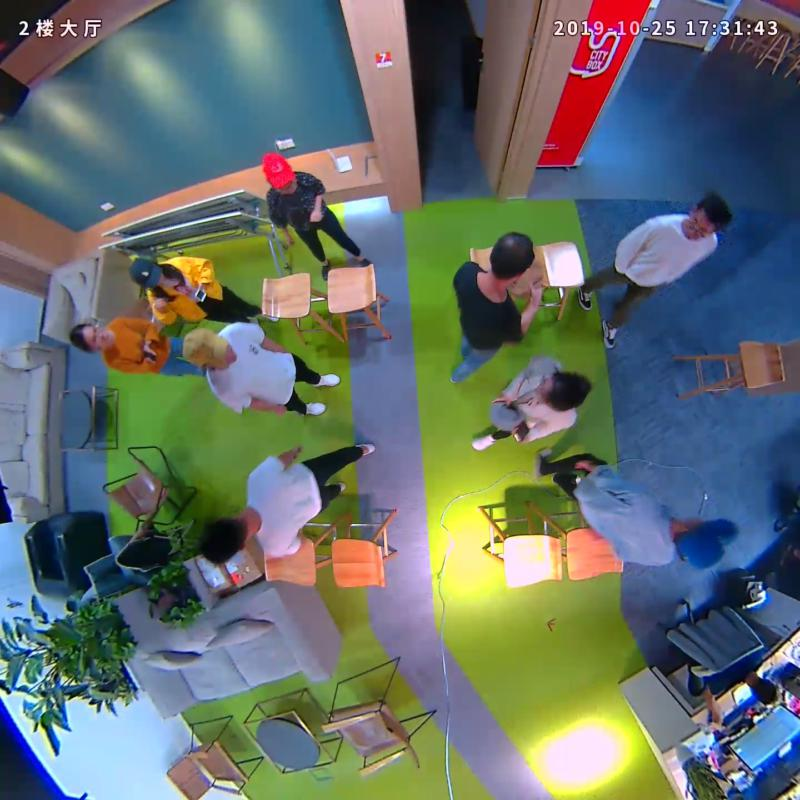head: (673, 519, 740, 569), (199, 515, 250, 566), (180, 328, 237, 370), (489, 231, 536, 281), (535, 371, 591, 412), (685, 193, 733, 240), (260, 151, 295, 193), (68, 322, 114, 352), (128, 256, 165, 289)
